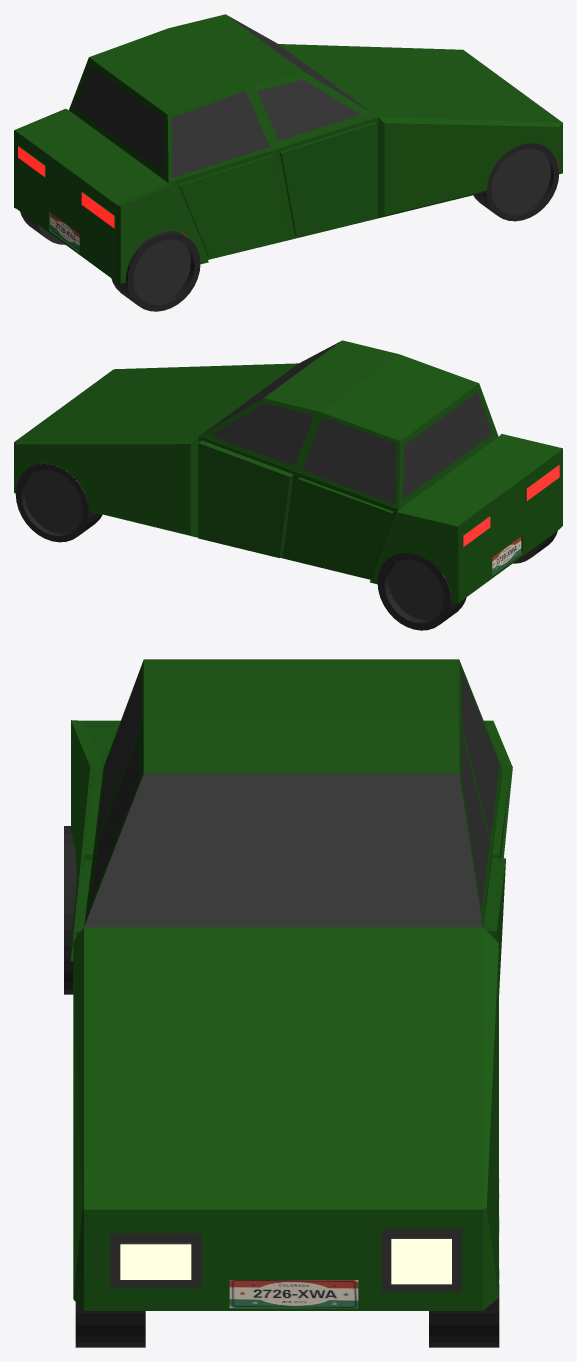
File: car2.glb
3 views of the same model, one above another, from view 1: azimuth 30°, elevation 25°; view 2: azimuth 150°, elevation 25°; view 3: azimuth 270°, elevation 25° (orthographic). The views are drawn at different scales.
Visible parts, largest first — view 1: Cube_0; view 2: Cube_0; view 3: Cube_0.
Part boxes in pixels (<box>): Cube_0: <box>14,14,562,311</box>; Cube_0: <box>14,340,562,630</box>; Cube_0: <box>64,659,512,1347</box>.
Size of the model in its own units: 5.2 by 2.05 by 2.25.
6 materials, 1 textured.
